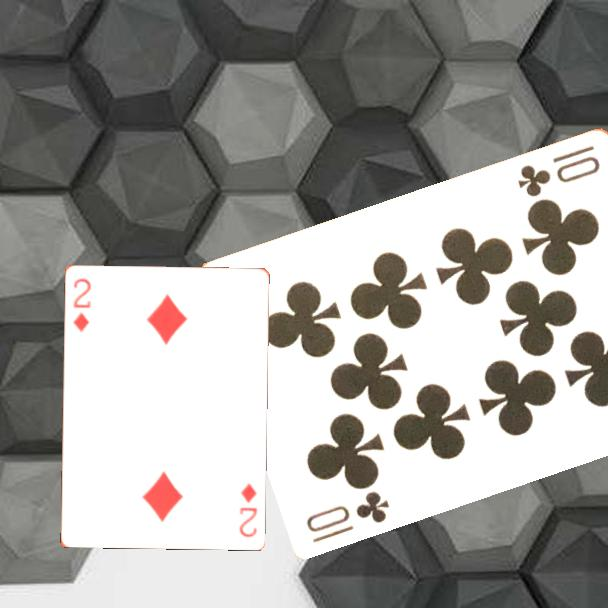c10: (303, 487, 393, 545), (514, 141, 603, 199)
d02: (69, 275, 93, 335), (235, 479, 259, 539)
